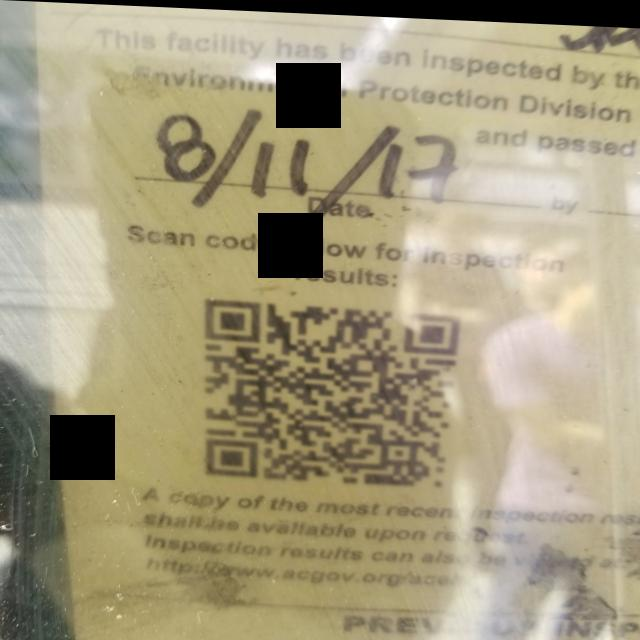QR_CODE: (183, 278, 472, 496)
